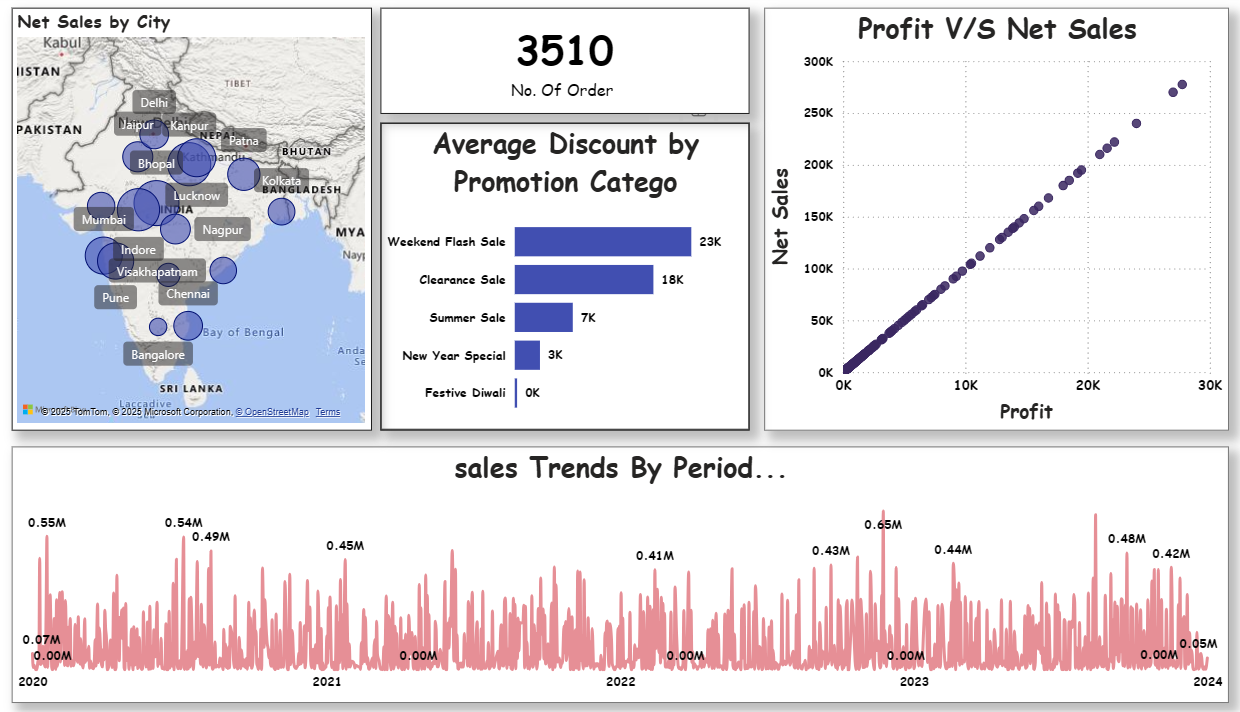

Layout of this report page (visuals, bound fields, positions):
{"tool":"powerbi","page":{"name":"Overview","canvas":[1280,720],"ordinal":0},"visuals":[{"type":"lineChart","title":"sales Trends By Period...","fields":{"Y":["Sum(fact Table.Net Sales   )"],"Category":["fact Table.Date (dd/mm/yyyy).Variation.Date Hierarchy.Year"]},"box":[33.8,450,1211.2,255],"z":0},{"type":"scatterChart","title":"Profit V/S Net Sales   ","fields":{"X":["fact Table.Profit "],"Y":["fact Table.Net Sales   "]},"box":[782.5,13.7,462.8,420.5],"z":1000},{"type":"barChart","title":"Average Discount by Promotion Catego","fields":{"Y":["Avg(fact Table.Discount)"],"Category":["Dim Promotion.Promotion Name"]},"box":[400.6,128.1,367,306],"z":2000},{"type":"map","fields":{"Category":["Dim Customers.City"],"Size":["Sum(fact Table.Net Sales   )"]},"box":[33.6,13.7,358.3,420.5],"z":3000},{"type":"card","fields":{"Values":["Count(fact Table.Order ID)"]},"box":[400.6,13.7,367,105.7],"z":4000}]}

Visuals, with their boxes in screenshot pixels (x1, y1, x2, y2), scaled from the page's 1280x720 canvas onto the 1240x712 screenshot:
"sales Trends By Period..." lineChart: <bbox>33, 445, 1206, 697</bbox>
"Profit V/S Net Sales   " scatterChart: <bbox>758, 14, 1206, 429</bbox>
"Average Discount by Promotion Catego" barChart: <bbox>388, 127, 744, 429</bbox>
map - Dim Customers.City x Sum(fact Table.Net Sales   ): <bbox>33, 14, 380, 429</bbox>
card - Count(fact Table.Order ID): <bbox>388, 14, 744, 118</bbox>
